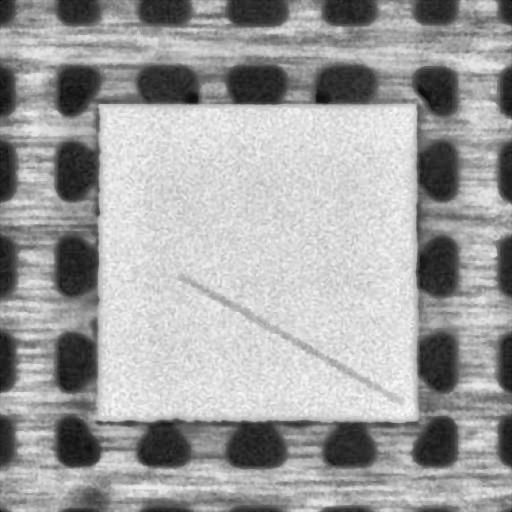DIE_CRACK: (180, 276, 398, 401)
